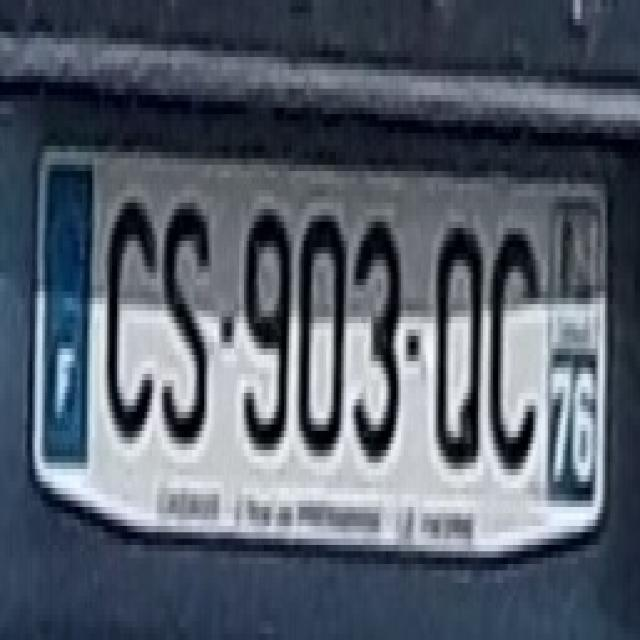EU: (31, 145, 610, 566)
France: (44, 162, 91, 463)
